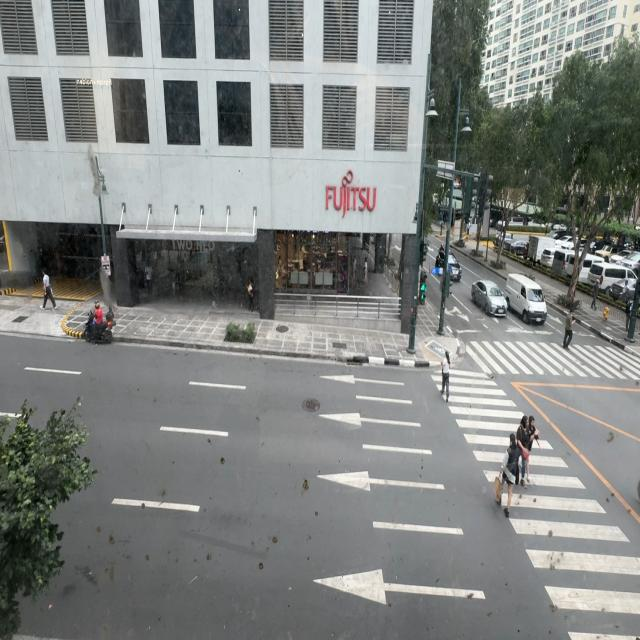crossing: (494, 431, 518, 515), (513, 405, 531, 500), (499, 432, 518, 518), (524, 407, 539, 489), (522, 416, 540, 484), (562, 302, 576, 355), (561, 308, 576, 350), (436, 351, 448, 403)
